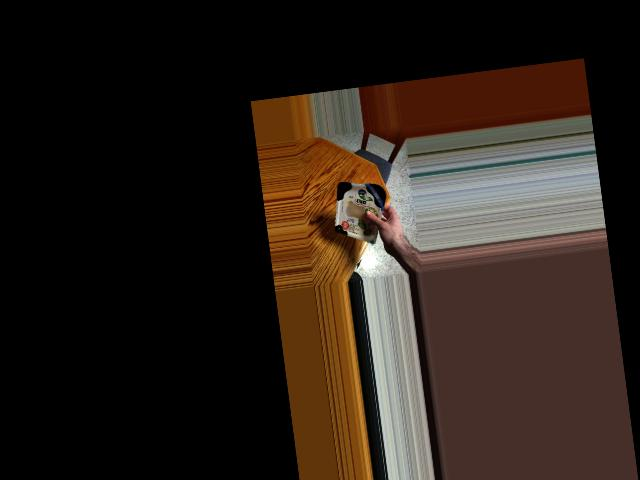cheese: (330, 178, 389, 238)
